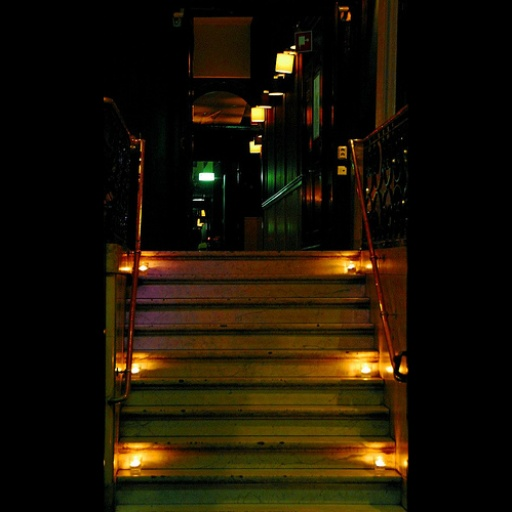Stairs: (116, 256, 404, 512)
